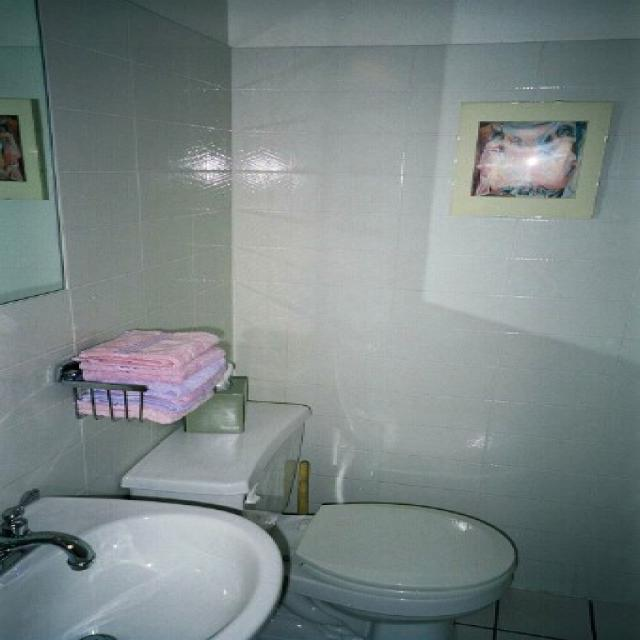cistern: (119, 400, 303, 526)
faucet handle: (2, 500, 94, 570)
floor -X: (43, 525, 634, 639)
mirror m: (2, 1, 64, 301)
picture crop: (444, 100, 612, 219)
towels: (66, 328, 235, 424)
wall clock: (230, 2, 634, 605), (4, 0, 250, 638)
washbasin occluded: (2, 495, 282, 639)
wc chair crop: (271, 499, 518, 639)
